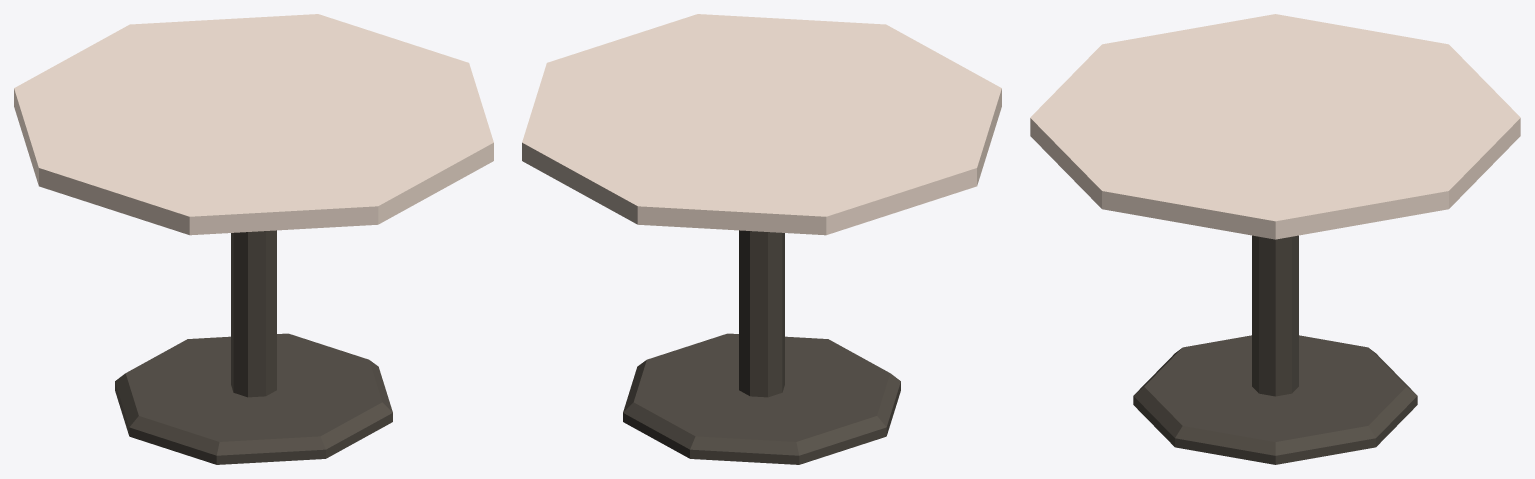
The model's file is table.fbx.
The picture shows the model from 3 angles, left to right: view 1: azimuth 30°, elevation 25°; view 2: azimuth 150°, elevation 25°; view 3: azimuth 270°, elevation 25°; orthographic projection.
Parts seen in each view (by area): view 1: polySurface939; view 2: polySurface939; view 3: polySurface939.
Part boxes in pixels (bbox=[...]): polySurface939: bbox=[14, 14, 493, 464]; polySurface939: bbox=[522, 14, 1001, 464]; polySurface939: bbox=[1030, 14, 1520, 464].
Bounding box in the file's own units: 121 × 78.03 × 121.
